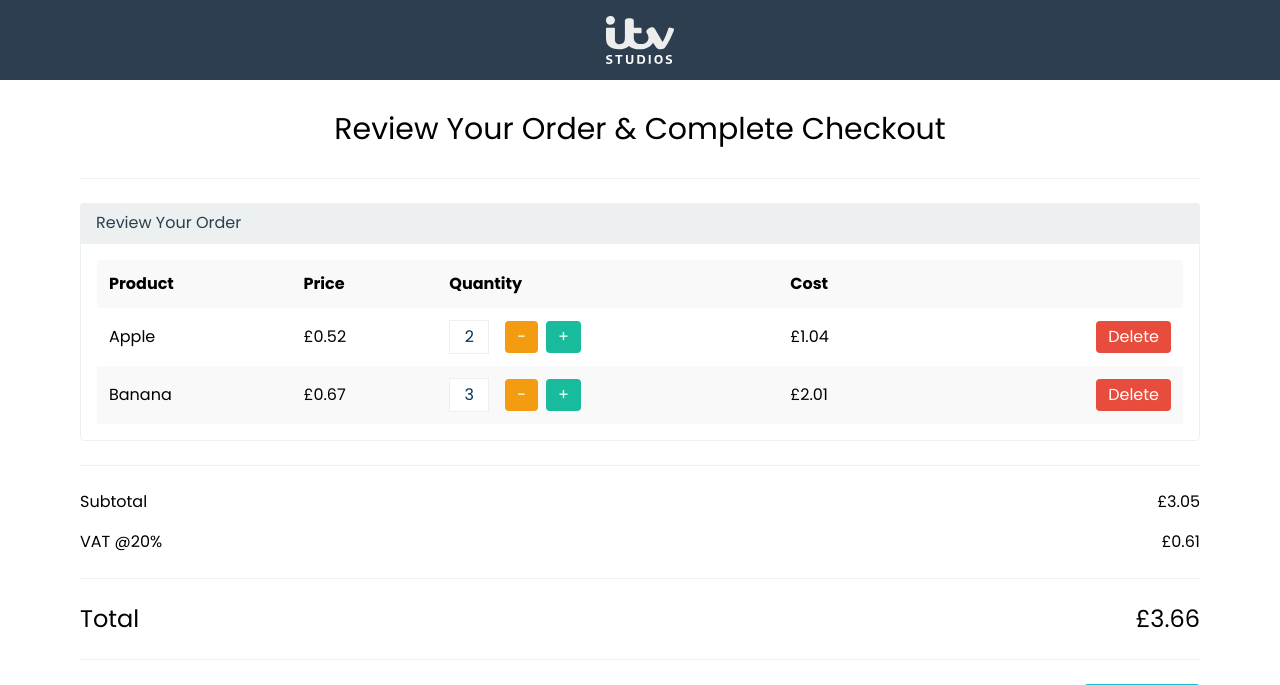
Test case: Shopping Basket › allows adding and removing quantity of a product
// Find the add quantity button for the first product and click it
Click the button with test id "add-quantity-button" in the row of "Apple". click: (564, 337)
box: [546,321,581,353]
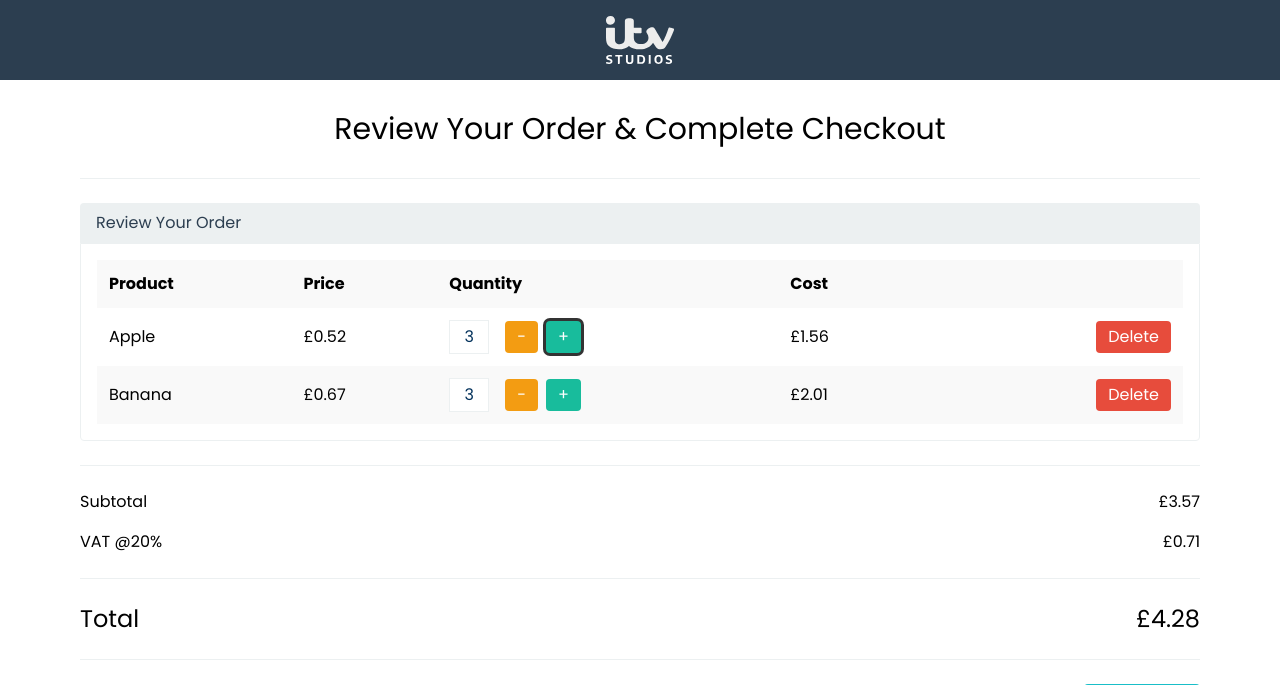
Now the number field with test id "quantity-input" in the row of "Apple" holds "3", box [449,320,489,354]
// Find the remove quantity button for the second product and click it
Click the button with test id "remove-quantity-button" in the row of "Banana". click: (522, 395)
box: [505,379,538,411]
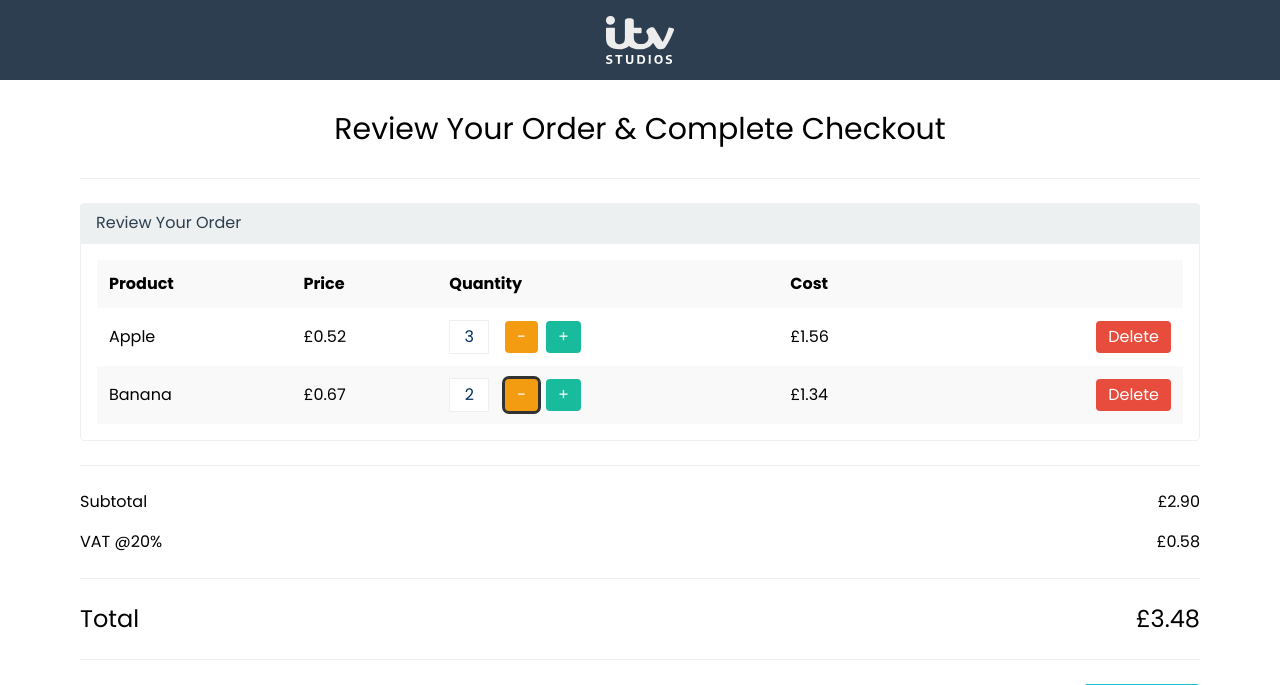
Now the number field with test id "quantity-input" in the row of "Banana" holds "2", box [449,378,489,412]
